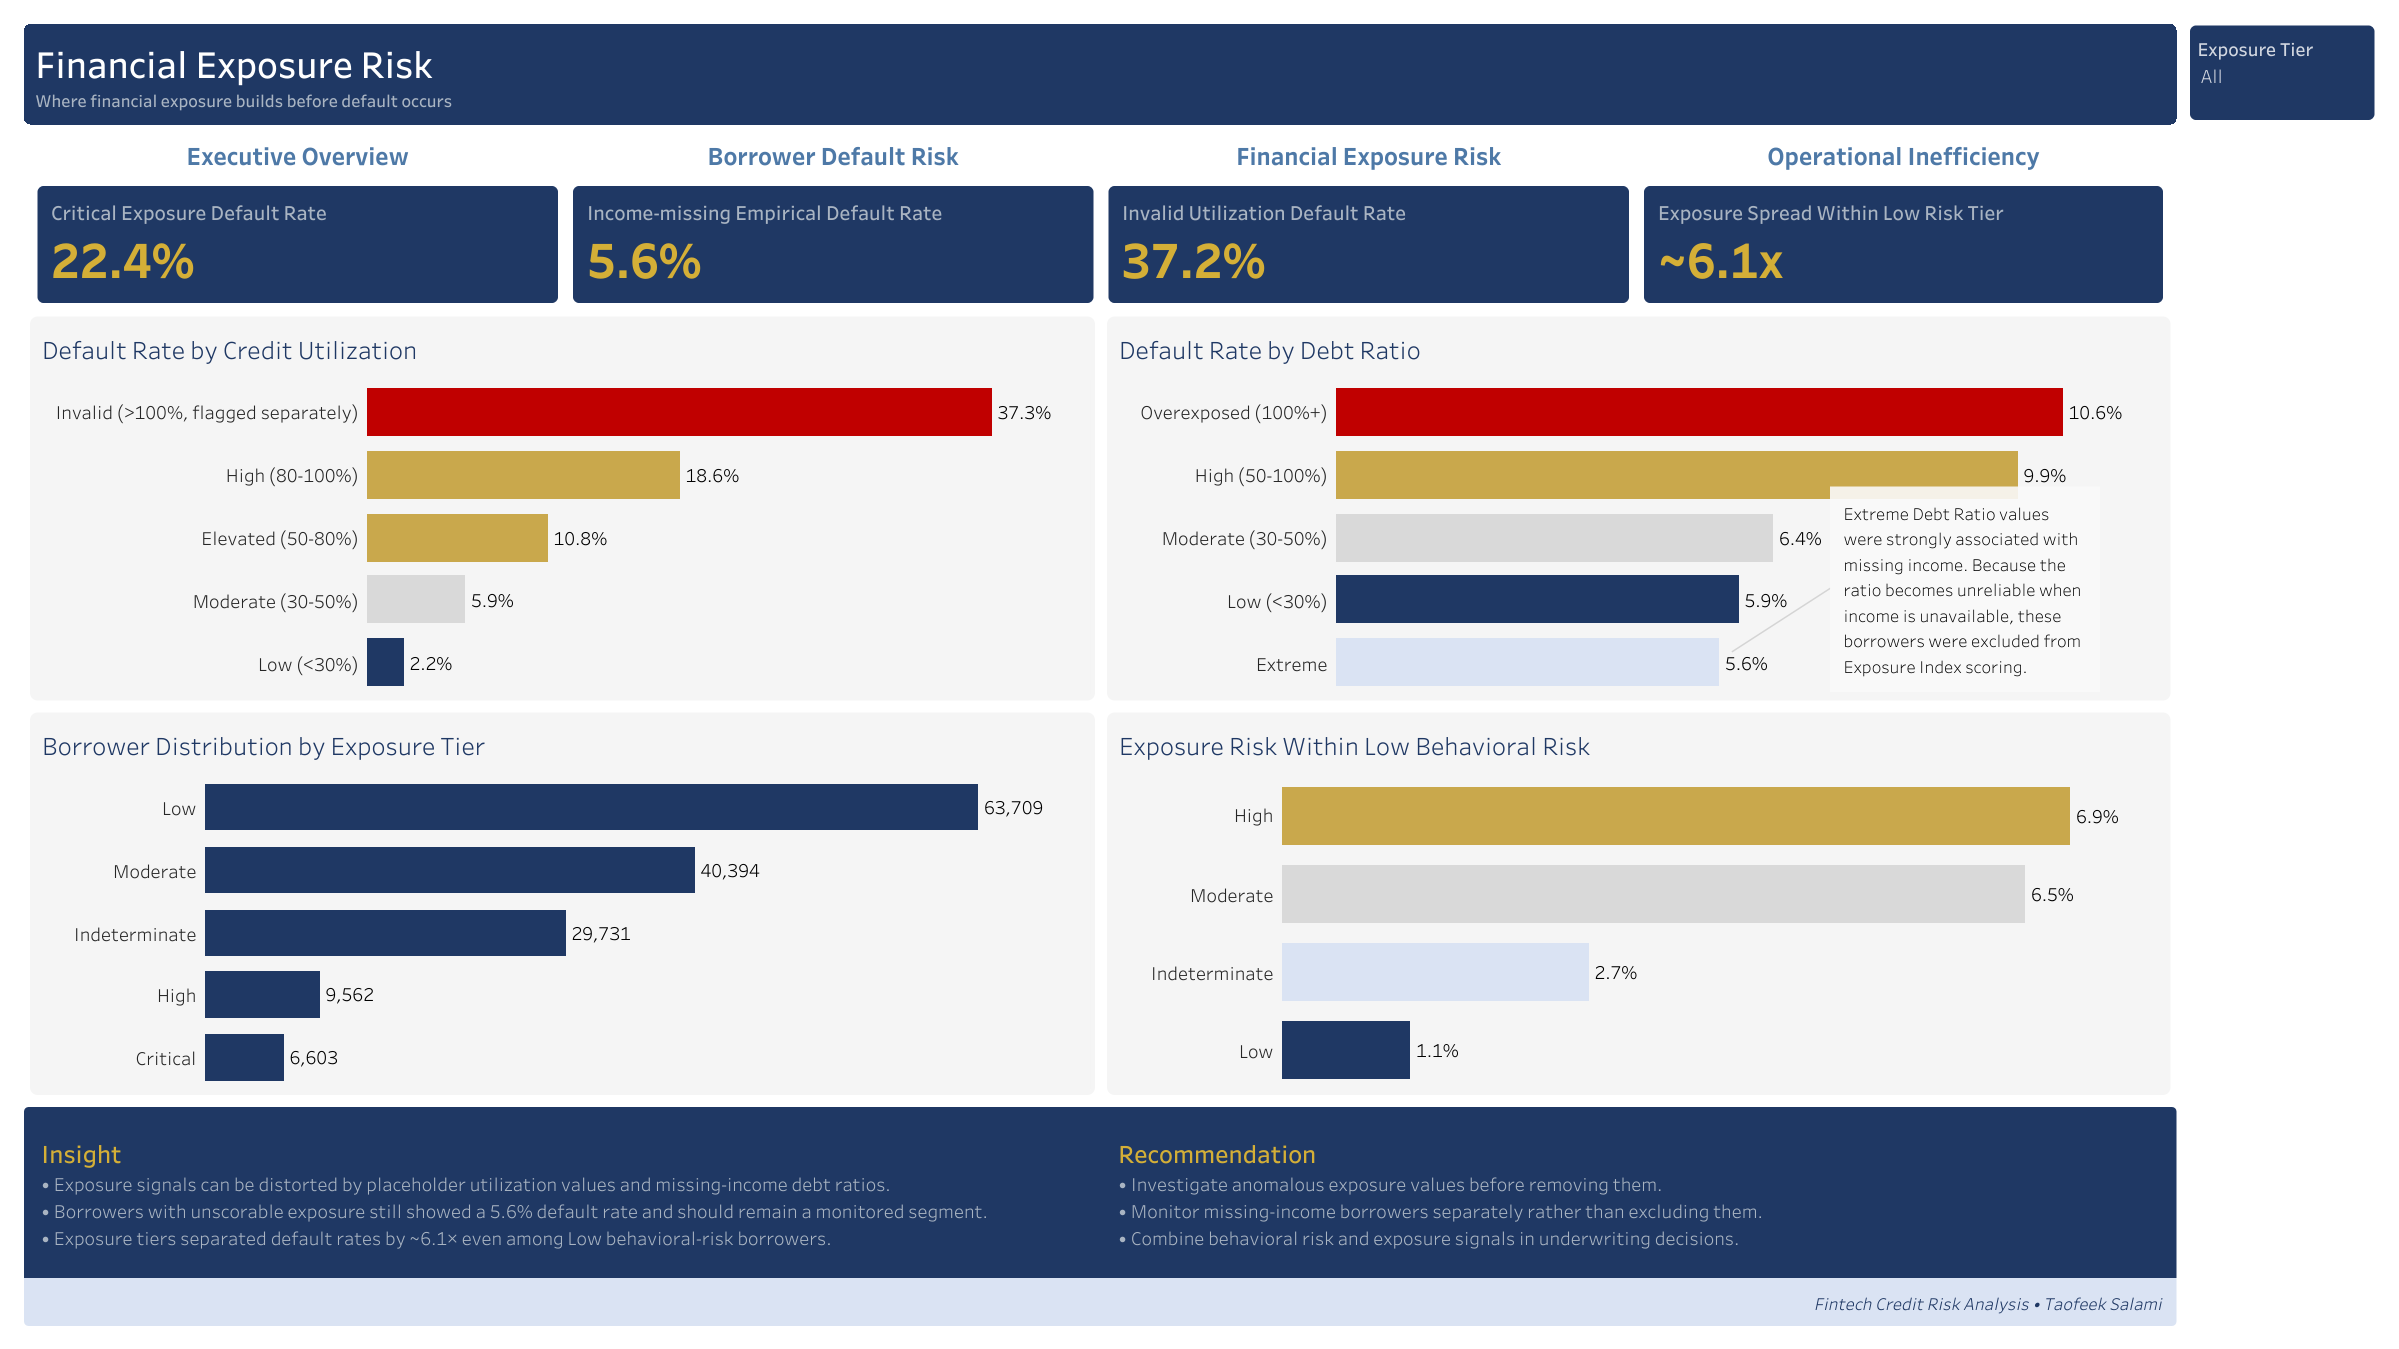

Layout of this report page (visuals, bound fields, positions):
{"tool":"tableau","page":{"name":"DB03 - Financial Exposure Risk","canvas":[1600,900],"ordinal":2},"visuals":[{"type":"filter","title":"09 - KPI - Critical Exposure Default Rate","param":"[federated.0l6wklt0usoimd1as64wt0mplcod].[none:exposure_tier:nk]","box":[1455,12,133,73]},{"type":"text","box":[16,16,1435,67]},{"type":"dashboard-object","box":[20,87,357,32]},{"type":"dashboard-object","box":[377,87,357,32]},{"type":"dashboard-object","box":[734,87,357,32]},{"type":"dashboard-object","box":[1091,87,356,32]},{"type":"worksheet","title":"09 - KPI - Critical Exposure Default Rate","mark":"Automatic","box":[20,119,357,88]},{"type":"worksheet","title":"10 - KPI - Income-missing Empirical Rate","mark":"Automatic","box":[377,119,357,88]},{"type":"worksheet","title":"11 - KPI - Invalid Utilization Default Rate","mark":"Automatic","box":[734,119,357,88]},{"type":"worksheet","title":"12 - KPI - Exposure Spread Within Low Risk Tier","mark":"Automatic","box":[1091,119,356,88]},{"type":"worksheet","title":"27 - Chart - Utilization Bands Default Rate","mark":"Automatic","rows":["utilization_band"],"cols":["delinquency_rate_pct"],"box":[16,207,718,264]},{"type":"worksheet","title":"28 - Chart - Debt Ratio Bands Default Rate","mark":"Automatic","rows":["debt_ratio_band"],"cols":["delinquency_rate_pct"],"box":[734,207,717,264]},{"type":"worksheet","title":"29 - Chart - Exposure Tier Distribution","mark":"Automatic","rows":["exposure_tier"],"cols":["vtsum"],"box":[16,471,718,263]},{"type":"worksheet","title":"30 - Chart - Low Risk Tier, Exposure Comparison","mark":"Automatic","rows":["exposure_tier"],"cols":["SeriousDlqin2yrs"],"box":[734,471,717,263]},{"type":"text","box":[16,738,718,114]},{"type":"text","box":[734,738,717,114]},{"type":"text","box":[16,852,1435,32]}]}

Visuals, with their boxes in screenshot pixels (x1, y1, x2, y2), scaled from the page's 1600x900 canvas onto the 2399x1349 screenshot:
"09 - KPI - Critical Exposure Default Rate" filter: [2182, 18, 2381, 127]
text: [24, 24, 2176, 124]
dashboard-object: [30, 130, 565, 178]
dashboard-object: [565, 130, 1101, 178]
dashboard-object: [1101, 130, 1636, 178]
dashboard-object: [1636, 130, 2170, 178]
"09 - KPI - Critical Exposure Default Rate" worksheet: [30, 178, 565, 310]
"10 - KPI - Income-missing Empirical Rate" worksheet: [565, 178, 1101, 310]
"11 - KPI - Invalid Utilization Default Rate" worksheet: [1101, 178, 1636, 310]
"12 - KPI - Exposure Spread Within Low Risk Tier" worksheet: [1636, 178, 2170, 310]
"27 - Chart - Utilization Bands Default Rate" worksheet: [24, 310, 1101, 706]
"28 - Chart - Debt Ratio Bands Default Rate" worksheet: [1101, 310, 2176, 706]
"29 - Chart - Exposure Tier Distribution" worksheet: [24, 706, 1101, 1100]
"30 - Chart - Low Risk Tier, Exposure Comparison" worksheet: [1101, 706, 2176, 1100]
text: [24, 1106, 1101, 1277]
text: [1101, 1106, 2176, 1277]
text: [24, 1277, 2176, 1325]
